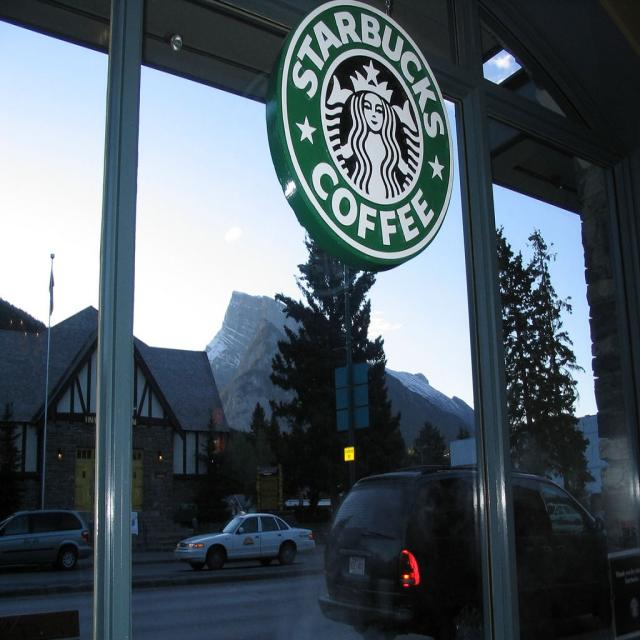starbucks: (283, 2, 455, 259)
